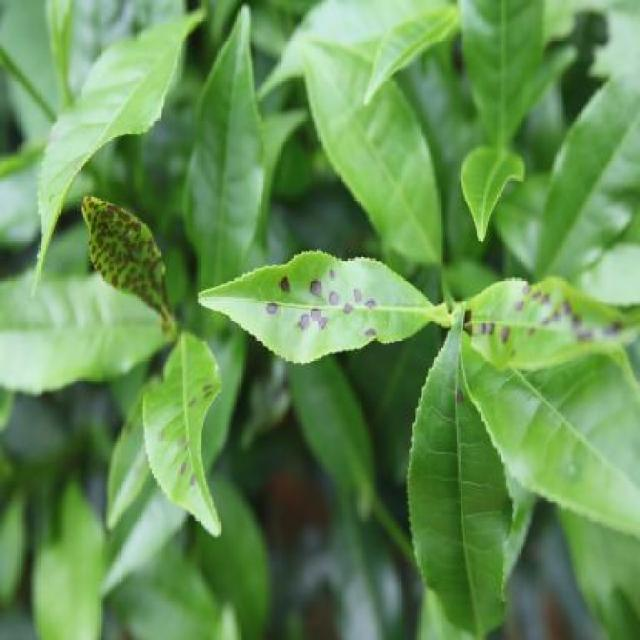Tea Mosquito bug infested leaf: (209, 248, 443, 368), (464, 277, 634, 377), (144, 342, 224, 536), (70, 197, 176, 326)
